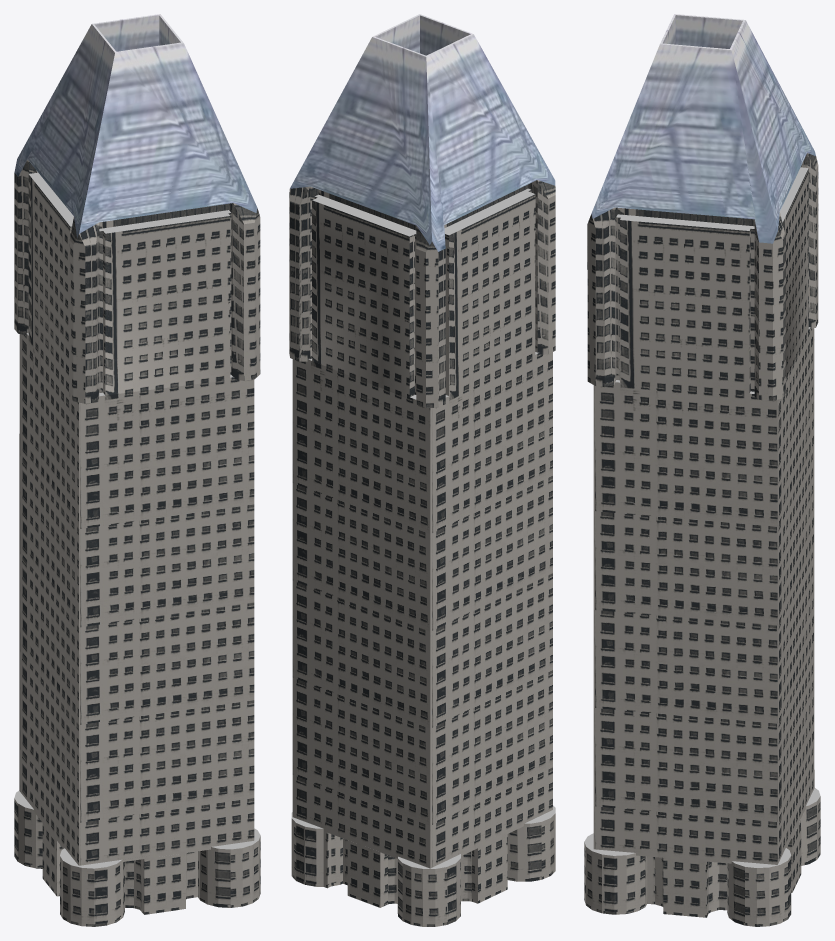
The picture shows the model from 3 angles, left to right: view 1: azimuth 30°, elevation 25°; view 2: azimuth 150°, elevation 25°; view 3: azimuth 270°, elevation 25°; orthographic projection.
Visible parts, largest first — view 1: geometry_0; view 2: geometry_0; view 3: geometry_0.
Boxes of the visible parts, left/top/right/bottom form: geometry_0: left=14, top=14, right=260, bottom=926; geometry_0: left=289, top=14, right=555, bottom=926; geometry_0: left=584, top=14, right=820, bottom=926.
Size of the model in its own units: 54.84 by 218 by 55.2.
Materials: 2 (2 with a texture image).
